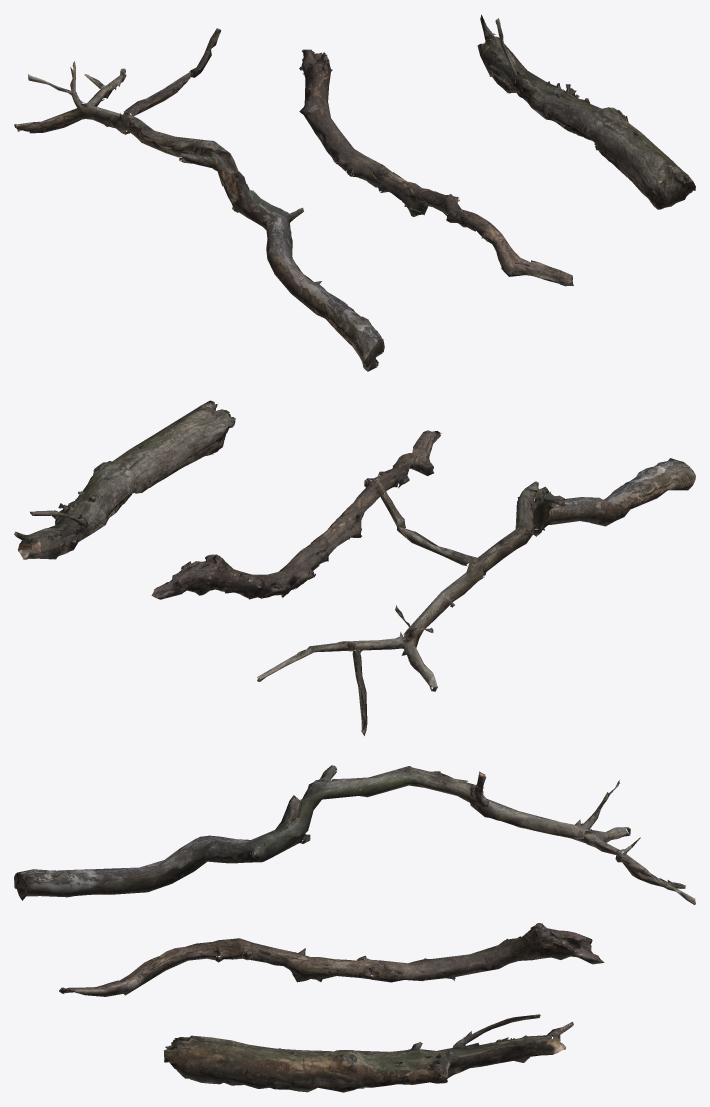
File: dry_branches_medium_01.glb
3 renders of one model, top to bottom at view 1: azimuth 30°, elevation 25°; view 2: azimuth 150°, elevation 25°; view 3: azimuth 270°, elevation 25°, orthographic. The views are drawn at different scales.
Parts seen in each view (by area): view 1: dry_branches_medium_01_a, dry_branches_medium_01_c, dry_branches_medium_01_b; view 2: dry_branches_medium_01_a, dry_branches_medium_01_c, dry_branches_medium_01_b; view 3: dry_branches_medium_01_a, dry_branches_medium_01_c, dry_branches_medium_01_b.
Part boxes in pixels (left/top/right/bottom): dry_branches_medium_01_a: left=14, top=28, right=384, bottom=371; dry_branches_medium_01_c: left=477, top=14, right=695, bottom=209; dry_branches_medium_01_b: left=299, top=49, right=573, bottom=286; dry_branches_medium_01_a: left=257, top=458, right=695, bottom=735; dry_branches_medium_01_c: left=14, top=400, right=235, bottom=559; dry_branches_medium_01_b: left=151, top=430, right=441, bottom=599; dry_branches_medium_01_a: left=14, top=765, right=695, bottom=904; dry_branches_medium_01_c: left=163, top=1014, right=573, bottom=1092; dry_branches_medium_01_b: left=59, top=923, right=604, bottom=996.
Size of the model in its own units: 1.06 by 0.3401 by 1.3.
1 material, 1 textured.
